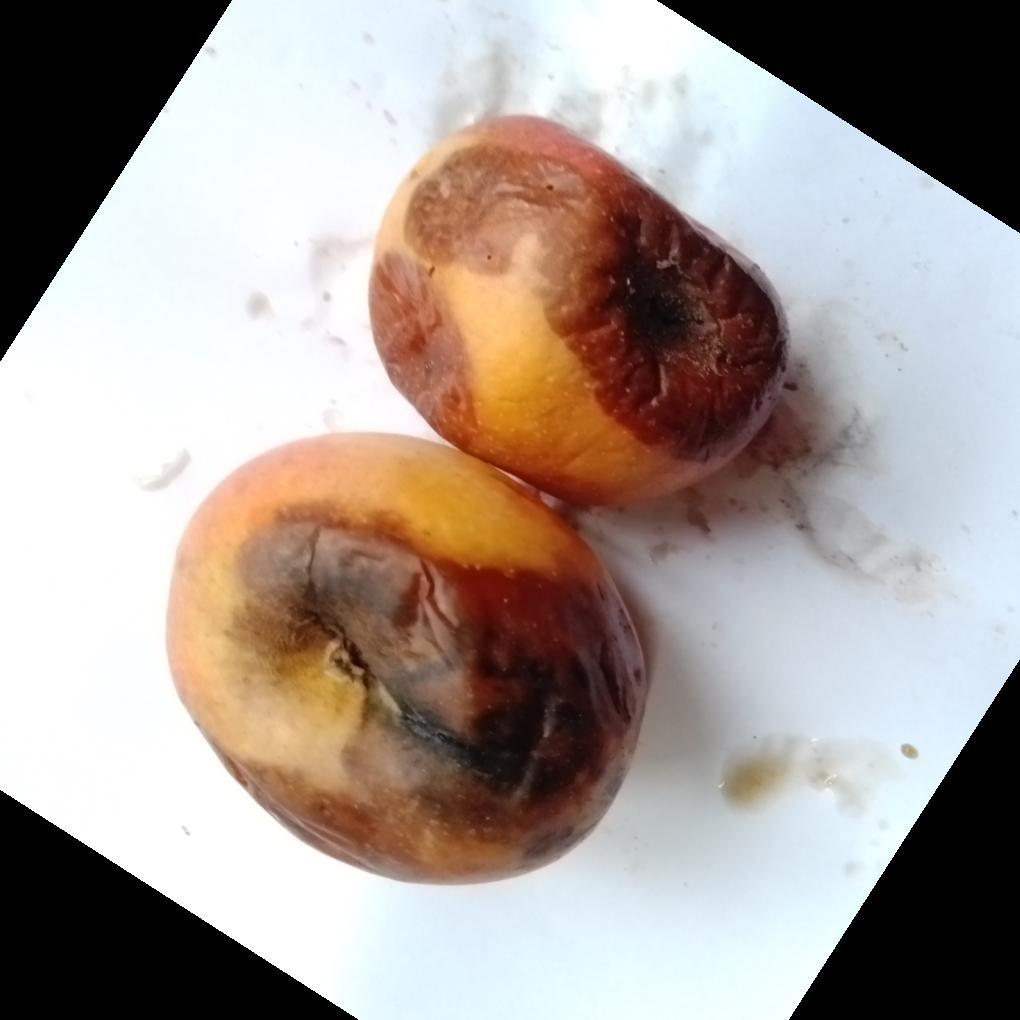FreshOrange: (166, 116, 790, 889)
